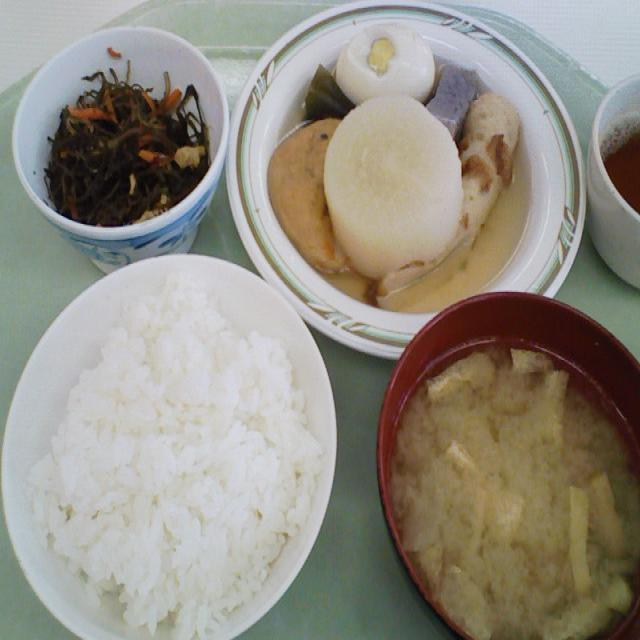Rice: (30, 274, 321, 630)
